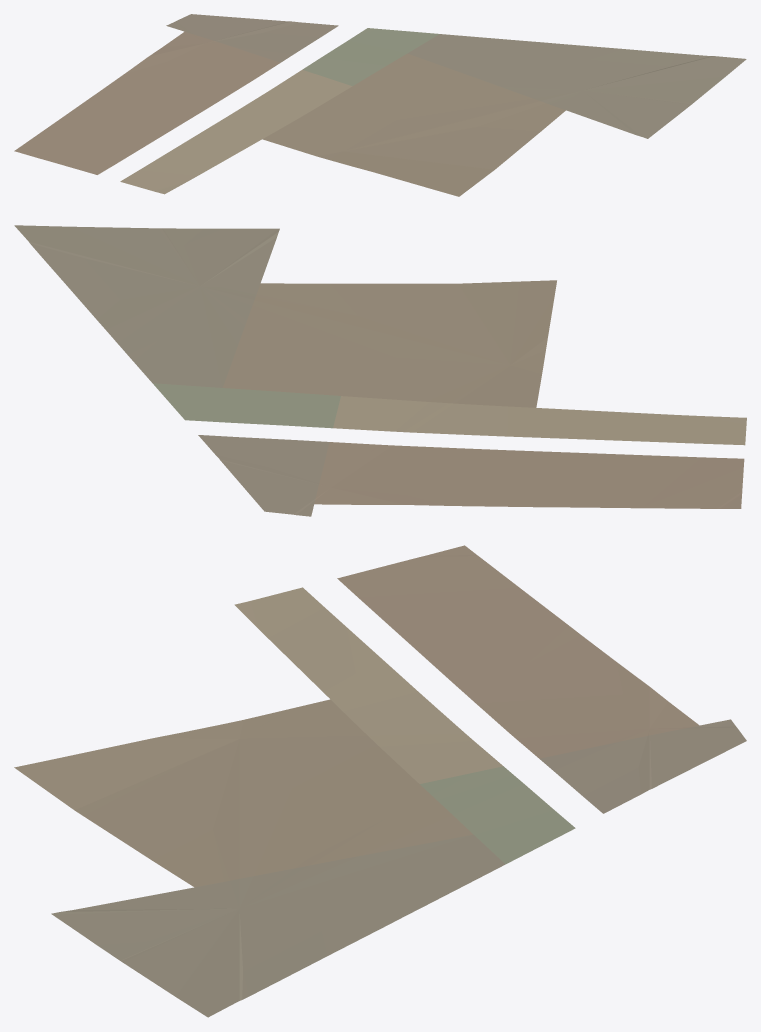
The model's file is farm_3_8_soil.glb.
3 renders of one model, top to bottom at view 1: azimuth 30°, elevation 25°; view 2: azimuth 150°, elevation 25°; view 3: azimuth 270°, elevation 25°, orthographic. The views are drawn at different scales.
Parts seen in each view (by area): view 1: geometry_0; view 2: geometry_0; view 3: geometry_0.
Part boxes in pixels (left/top/right/bottom): geometry_0: left=14, top=14, right=746, bottom=196; geometry_0: left=14, top=225, right=746, bottom=516; geometry_0: left=14, top=545, right=746, bottom=1017.
Size of the model in its own units: 216 by 2.89 by 143.
